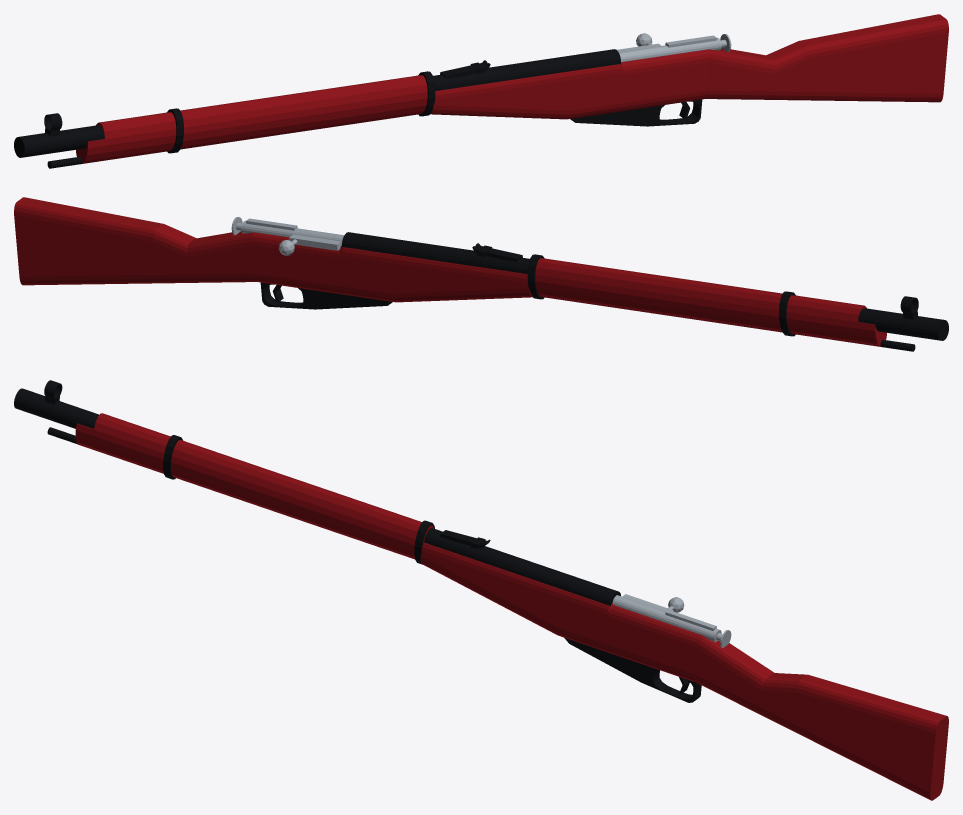
The model's file is mosin-nagant0008.obj.
3 renders of one model, top to bottom at view 1: azimuth 30°, elevation 25°; view 2: azimuth 150°, elevation 25°; view 3: azimuth 330°, elevation 25°, orthographic.
Visible parts, largest first — view 1: stock, barrel, triggerGuard, bolt, stockBandRear, stockBand, grooveBar, cleaningRod; view 2: stock, barrel, triggerGuard, bolt, boltLocker, stockBandRear, stockBand, grooveBar, cleaningRod; view 3: stock, barrel, triggerGuard, bolt.
Part boxes in pixels (x1,y1,x2,y2): stock: (76, 14, 948, 163); barrel: (14, 49, 620, 157); triggerGuard: (570, 99, 702, 126); bolt: (619, 37, 721, 62); stockBandRear: (418, 71, 435, 116); stockBand: (167, 108, 183, 153); grooveBar: (440, 60, 490, 78); cleaningRod: (47, 114, 415, 168); stock: (14, 197, 886, 346); barrel: (342, 232, 948, 340); triggerGuard: (260, 282, 392, 309); bolt: (241, 220, 343, 244); boltLocker: (289, 234, 341, 250); stockBandRear: (527, 254, 544, 299); stockBand: (779, 291, 795, 336); grooveBar: (472, 243, 522, 261); cleaningRod: (547, 297, 915, 351); stock: (75, 413, 948, 800); barrel: (14, 388, 620, 606); triggerGuard: (564, 638, 701, 702); bolt: (612, 595, 721, 642).
Bounding box in the file's own units: 16.26 × 3.38 × 0.818.
